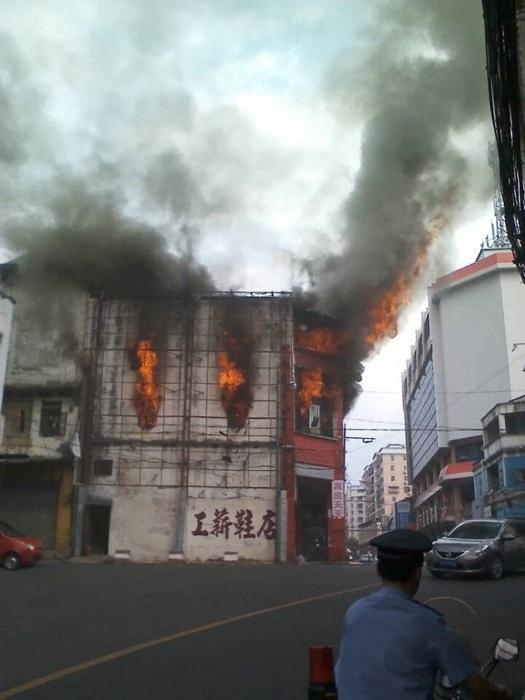fire: (299, 242, 427, 359), (130, 335, 163, 424), (211, 341, 250, 390), (294, 364, 327, 412)
